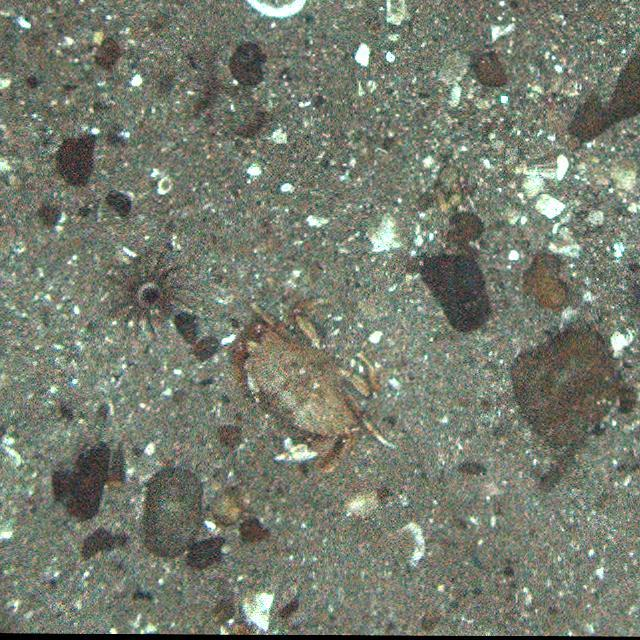crab: (234, 297, 397, 476)
